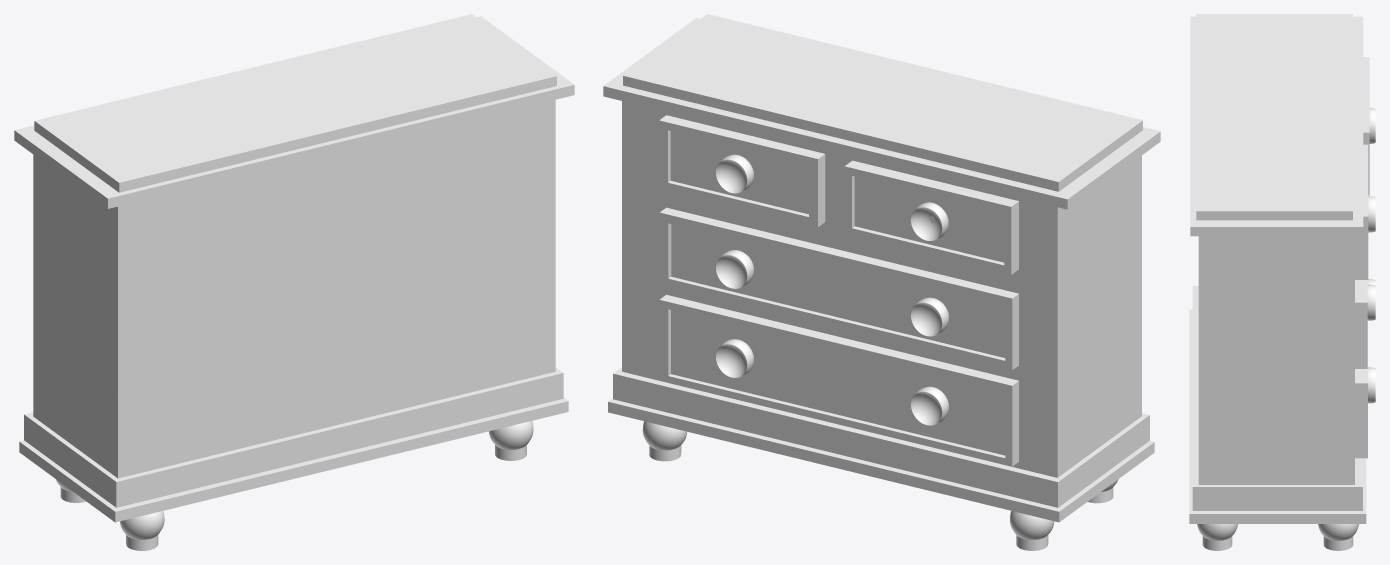
File: Cajonera.obj
3 renders of one model, left to right at view 1: azimuth 30°, elevation 25°; view 2: azimuth 150°, elevation 25°; view 3: azimuth 270°, elevation 25°, orthographic. The views are drawn at different scales.
Visible parts, largest first — view 1: pSphere13; view 2: pSphere13; view 3: pSphere13.
Boxes of the visible parts, bbox=[...] form: pSphere13: bbox=[14, 14, 574, 550]; pSphere13: bbox=[603, 14, 1160, 550]; pSphere13: bbox=[1189, 14, 1375, 550].
Size of the model in its own units: 6.53 by 5.06 by 2.45.
Materials: 1 (1 with a texture image).
